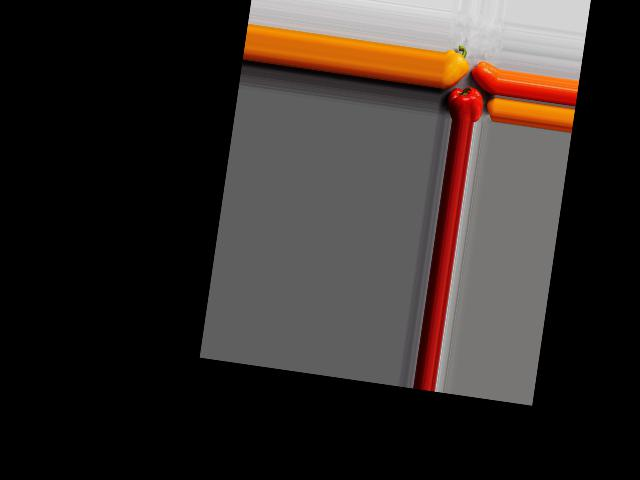bell_pepper: (442, 84, 484, 122)
